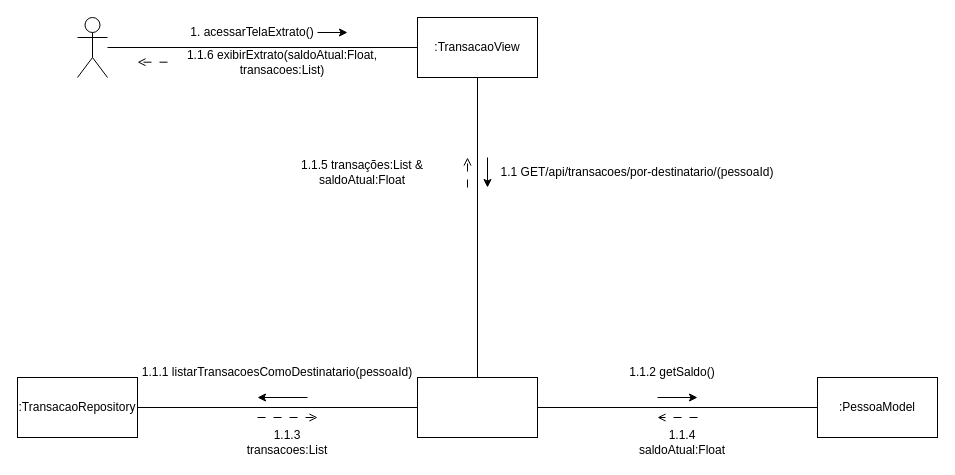
The diagram is 955 pixels wide and 475 high, and some of its shapes have lost their labels. The shapes that lost their labels are listed below. From the top down, each one's box as (x1, y1, x2, y2) in pixels, then its label:
(76, 16, 108, 78): Pessoa
(416, 376, 538, 438): :TransacaoController
